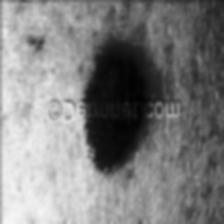Potentially Malignant Skin Tumors: (81, 49, 148, 167)
